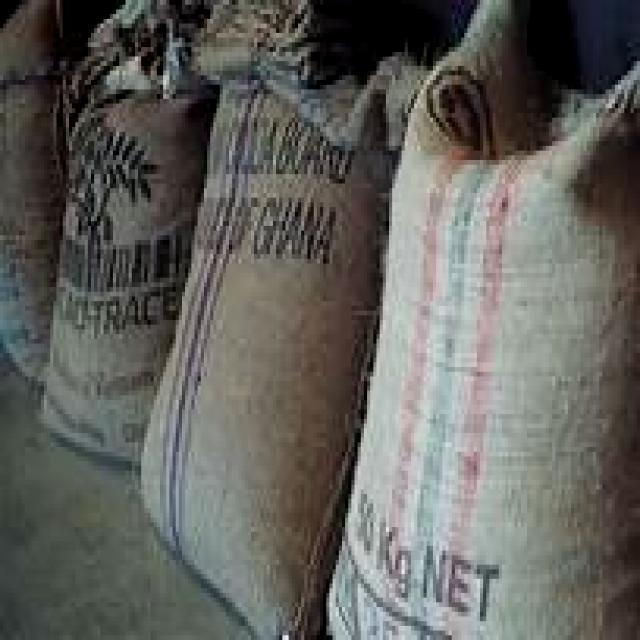gunny_bag: (321, 0, 640, 640), (136, 58, 421, 640), (43, 81, 219, 469)
